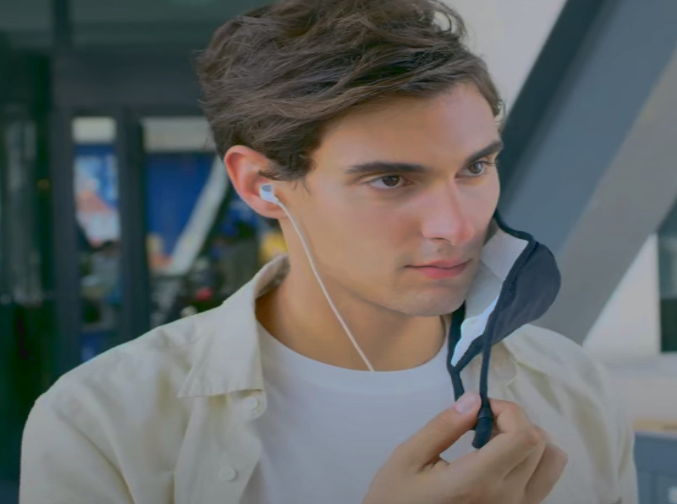mask_weared_incorrect: (206, 2, 564, 377)
